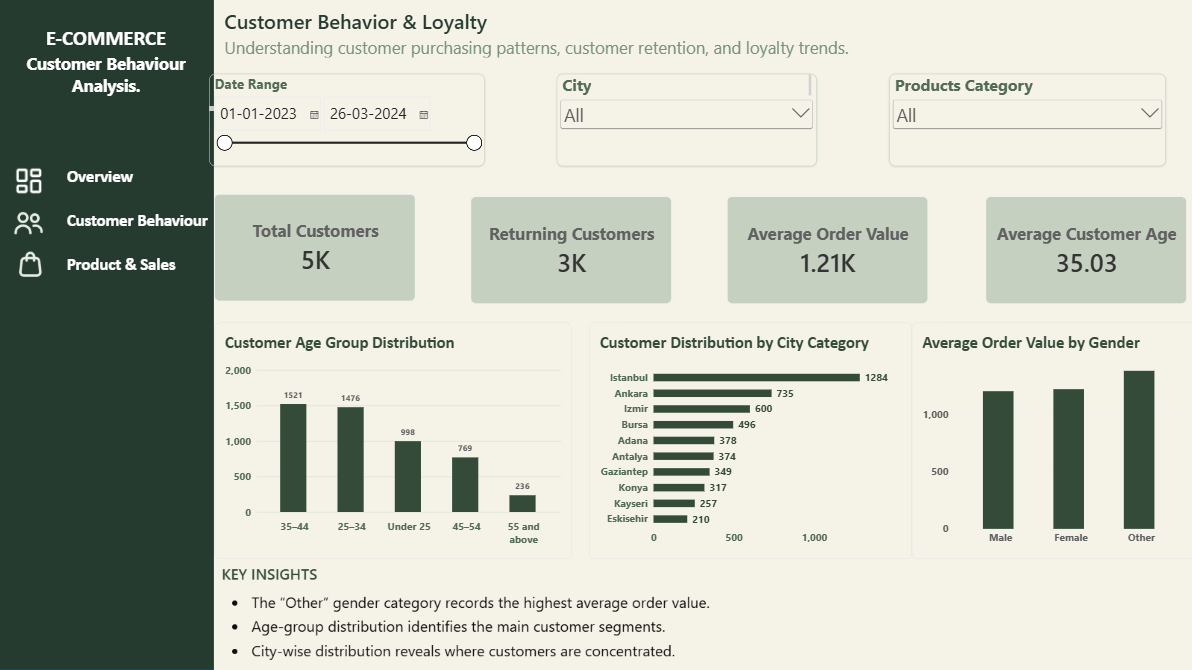

The page's visual inventory and layout, read from the dashboard file:
{"tool":"powerbi","page":{"name":"PAGE2","canvas":[1920,1080],"ordinal":1},"visuals":[{"type":"shape","box":[0,0,345.8,1080.6],"z":0},{"type":"textbox","title":"E-COMMERCE","box":[0,47.3,345.8,137.9],"z":1000},{"type":"textbox","title":"Overview","box":[109.1,273.8,164.7,47.3],"z":2000},{"type":"textbox","title":"Customer Behaviour","box":[109.1,343.7,253.2,39.1],"z":3000},{"type":"textbox","title":"Product & Sales","box":[109.1,413.7,228.5,43.2],"z":4000},{"type":"image","box":[24.7,273.8,49.4,47.3],"z":6000},{"type":"image","box":[18.5,343.7,63.8,43.2],"z":7000},{"type":"image","box":[14.4,403.4,74.1,53.5],"z":8000},{"type":"textbox","title":"Customer Behavior & Loyalty","box":[362,20,1506,130],"z":10000},{"type":"slicer","fields":{"Values":["Customer.City"]},"box":[894,126,415.8,148.2],"z":11000},{"type":"slicer","fields":{"Values":["Dim_Date.Date"]},"box":[338,126,440.5,148.2],"z":12000},{"type":"slicer","fields":{"Values":["Product.Products Category"]},"box":[1426,126,442.5,148.2],"z":13000},{"type":"cardVisual","fields":{"Data":["Ecommerce_Final.Total Customers"]},"box":[346,318,322.5,172.5],"z":14000},{"type":"cardVisual","fields":{"Data":["Ecommerce_Final.Returning Customers"]},"box":[756,322,322.5,172.5],"z":15000},{"type":"cardVisual","fields":{"Data":["Ecommerce_Final.Average Order Value"]},"box":[1166,322,322.5,172.5],"z":16000},{"type":"cardVisual","fields":{"Data":["Customer.Average Customer Age"]},"box":[1580,322,322.5,172.5],"z":17000},{"type":"clusteredColumnChart","title":"Customer Age Group Distribution","fields":{"Category":["Customer.Age Group"],"Y":["CountNonNull(Customer.Customer_ID)"]},"box":[346,524,572,378],"z":18000},{"type":"clusteredBarChart","title":"Customer Distribution by City Category","fields":{"Category":["Customer.City"],"Y":["CountNonNull(Customer.Customer_ID)"]},"box":[946,524,516,378],"z":19000},{"type":"clusteredColumnChart","title":"Average Order Value by Gender","fields":{"Category":["Customer.Gender"],"Y":["Ecommerce_Final.Average Order Value"]},"box":[1462,524,458,378],"z":20000},{"type":"image","box":[346,902,820,178],"z":20001}]}

Visuals, with their boxes in screenshot pixels (x1, y1, x2, y2), scaled from the page's 1920x1080 canvas onto the 1192x670 screenshot:
shape: bbox=[0, 0, 215, 669]
"E-COMMERCE" textbox: bbox=[0, 29, 215, 115]
"Overview" textbox: bbox=[68, 170, 170, 199]
"Customer Behaviour" textbox: bbox=[68, 213, 225, 237]
"Product & Sales" textbox: bbox=[68, 257, 210, 283]
image: bbox=[15, 170, 46, 199]
image: bbox=[11, 213, 51, 240]
image: bbox=[9, 250, 55, 283]
"Customer Behavior & Loyalty" textbox: bbox=[225, 12, 1160, 93]
slicer - Customer.City: bbox=[555, 78, 813, 170]
slicer - Dim_Date.Date: bbox=[210, 78, 483, 170]
slicer - Product.Products Category: bbox=[885, 78, 1160, 170]
cardVisual - Ecommerce_Final.Total Customers: bbox=[215, 197, 415, 304]
cardVisual - Ecommerce_Final.Returning Customers: bbox=[469, 200, 670, 307]
cardVisual - Ecommerce_Final.Average Order Value: bbox=[724, 200, 924, 307]
cardVisual - Customer.Average Customer Age: bbox=[981, 200, 1181, 307]
"Customer Age Group Distribution" clusteredColumnChart: bbox=[215, 325, 570, 560]
"Customer Distribution by City Category" clusteredBarChart: bbox=[587, 325, 908, 560]
"Average Order Value by Gender" clusteredColumnChart: bbox=[908, 325, 1191, 560]
image: bbox=[215, 560, 724, 669]
